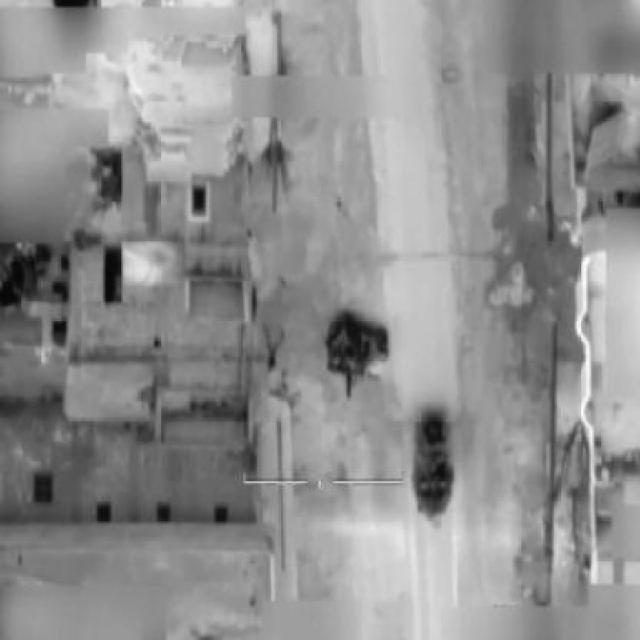Vehicle: (327, 316, 393, 394), (413, 423, 459, 524)
